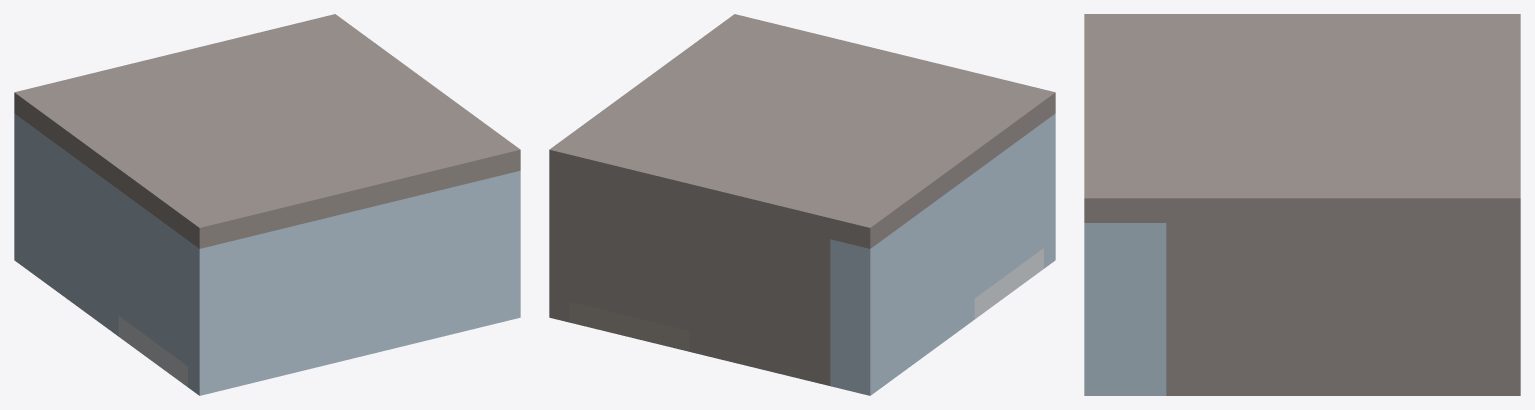
Rendered from ice-gate-bend-mirror.glb.
3 views of the same model, side by side, from view 1: azimuth 30°, elevation 25°; view 2: azimuth 150°, elevation 25°; view 3: azimuth 270°, elevation 25° (orthographic). The views are drawn at different scales.
Visible parts, largest first — view 1: rock_7, ice-rock_10, ice-rock_1, plug_ice_west, ice-rock_7, ice-rock_8, ice-rock_9, ice-rock_5, ice-rock_6, snow_5; view 2: rock_7, rock_1, ice-rock_1, plug_north, plug_ice_west, ice-rock_5, rock_2, cave-floor_1, ice-rock_10, snow_5; view 3: rock_7, rock_2, ice-rock_9.
Boxes of the visible parts, <box> form: rock_7: <box>14,14,520,248</box>; ice-rock_10: <box>188,205,380,395</box>; ice-rock_1: <box>14,113,95,319</box>; plug_ice_west: <box>118,190,187,365</box>; ice-rock_7: <box>380,195,420,351</box>; ice-rock_8: <box>440,180,480,336</box>; ice-rock_9: <box>480,170,520,327</box>; ice-rock_5: <box>95,173,118,336</box>; ice-rock_6: <box>420,190,440,341</box>; snow_5: <box>118,316,187,386</box>; rock_7: <box>549,14,1055,248</box>; rock_1: <box>689,205,830,385</box>; ice-rock_1: <box>830,190,951,395</box>; plug_north: <box>569,175,689,330</box>; plug_ice_west: <box>974,122,1043,298</box>; ice-rock_5: <box>951,173,974,336</box>; rock_2: <box>549,170,569,322</box>; cave-floor_1: <box>569,301,689,351</box>; ice-rock_10: <box>1044,113,1055,268</box>; snow_5: <box>974,248,1043,319</box>; rock_7: <box>1084,14,1520,222</box>; rock_2: <box>1166,223,1520,395</box>; ice-rock_9: <box>1084,223,1166,395</box>.
Size of the model in its own units: 8 by 4 by 8.
